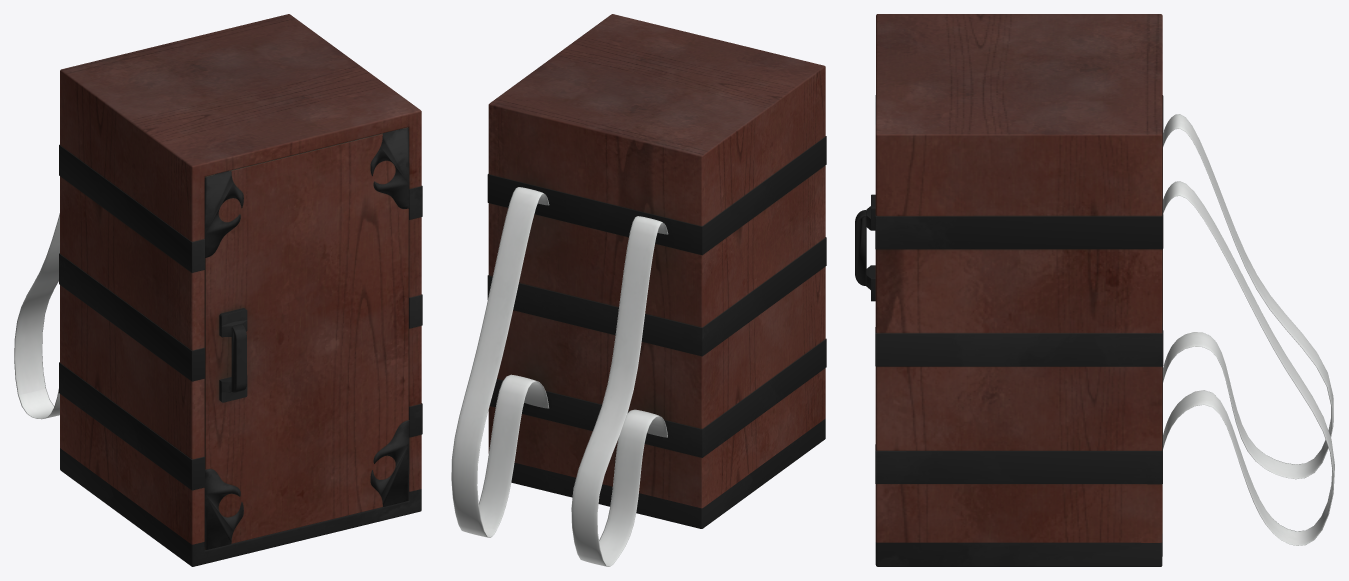
3 renders of one model, left to right at view 1: azimuth 30°, elevation 25°; view 2: azimuth 150°, elevation 25°; view 3: azimuth 270°, elevation 25°, orthographic. The views are drawn at different scales.
Visible parts, largest first — view 1: Cube.057; view 2: Cube.057; view 3: Cube.057.
Boxes of the visible parts, box(x1,y1,x2,y2) form: Cube.057: box(14, 14, 422, 566); Cube.057: box(451, 14, 826, 566); Cube.057: box(855, 14, 1334, 566).
Bounding box in the file's own units: 0.6015 × 0.9996 × 1.
3 materials, 3 textured.
